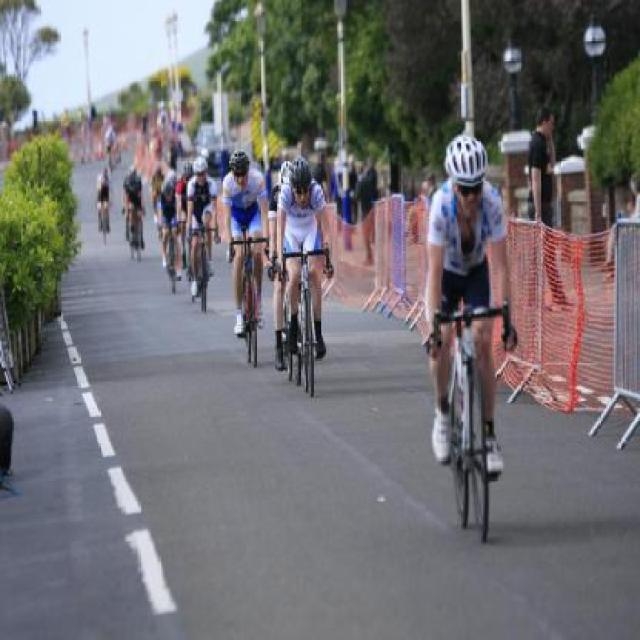Person: (428, 135, 520, 472), (271, 164, 338, 367), (224, 150, 276, 332), (528, 107, 570, 316), (186, 158, 220, 294), (158, 176, 177, 275), (123, 167, 142, 255), (176, 160, 190, 271), (359, 153, 375, 210), (99, 166, 112, 231), (152, 168, 168, 220), (102, 128, 115, 166)
